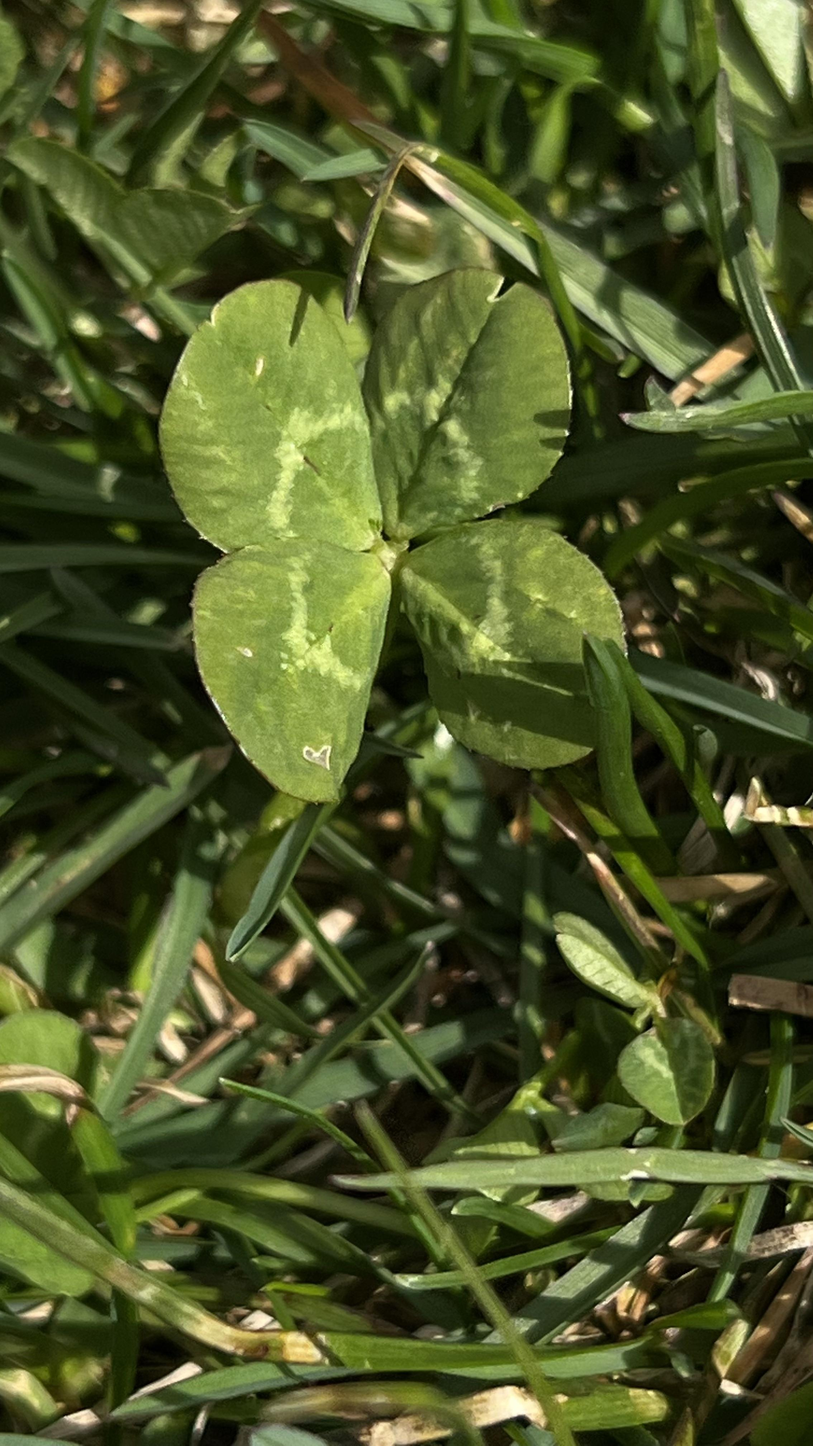4-Leaf-Clovers: (162, 325, 449, 1144)
